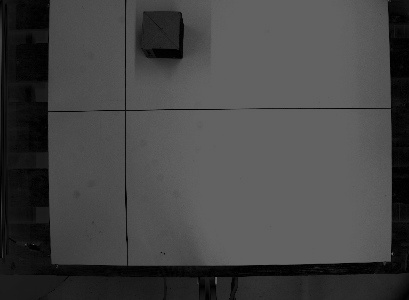b7: (138, 8, 187, 61)
